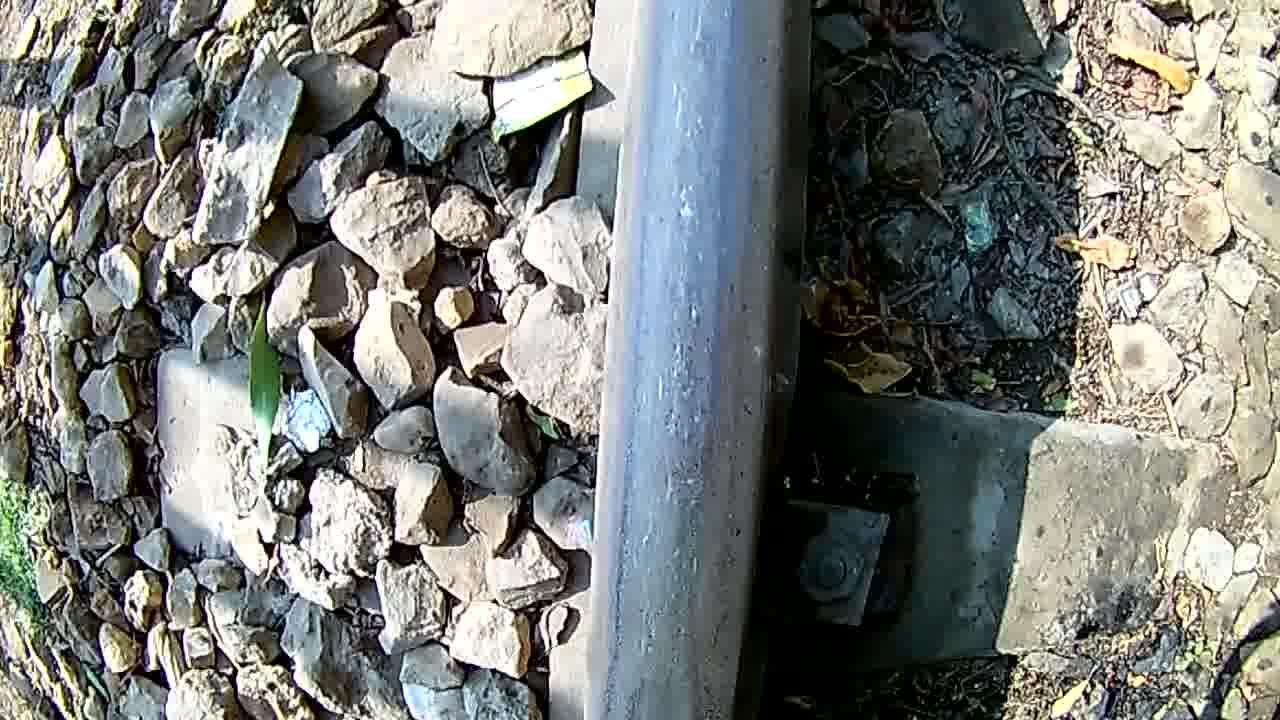bolt_missing: (598, 489, 738, 720)
